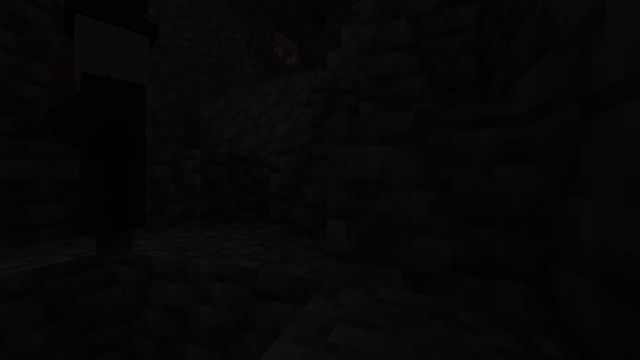cochons: (276, 35, 298, 65)
sorcieres: (46, 2, 167, 263)
